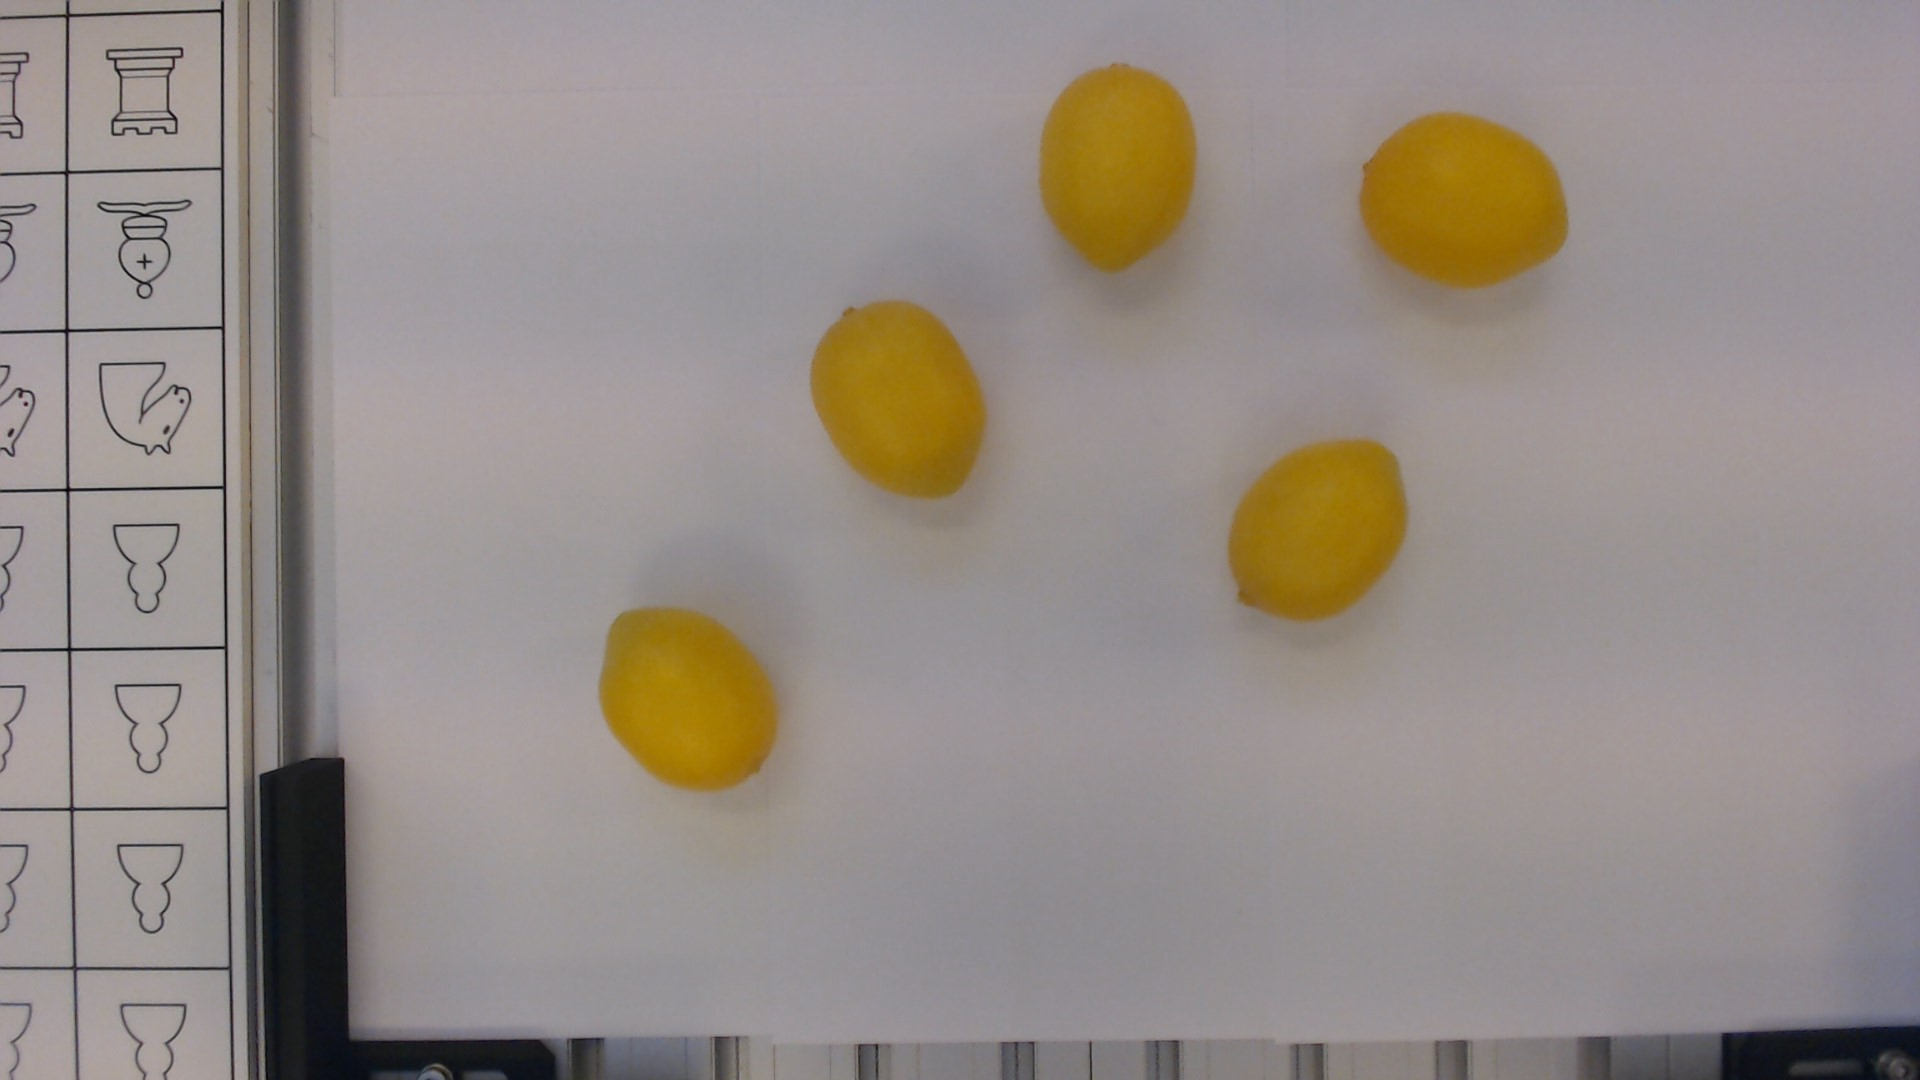Lemon: (1209, 430, 1412, 624), (583, 607, 790, 796), (1358, 108, 1569, 290), (804, 299, 988, 501), (1035, 58, 1203, 278)
